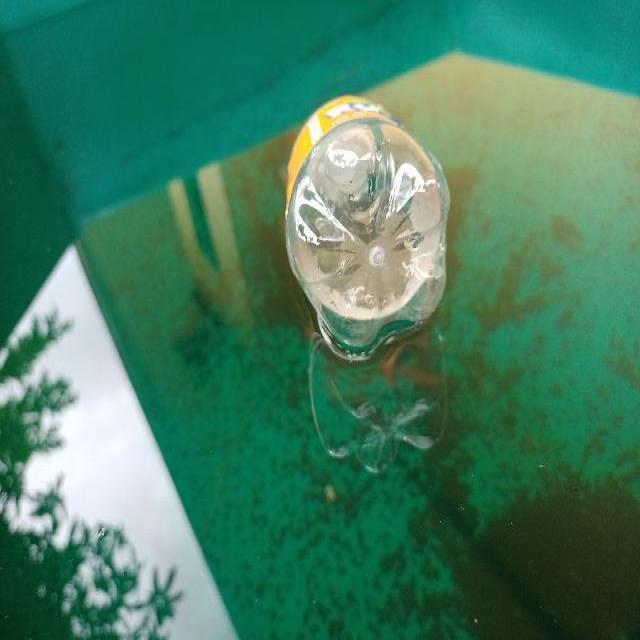Bottle: (271, 87, 459, 372)
